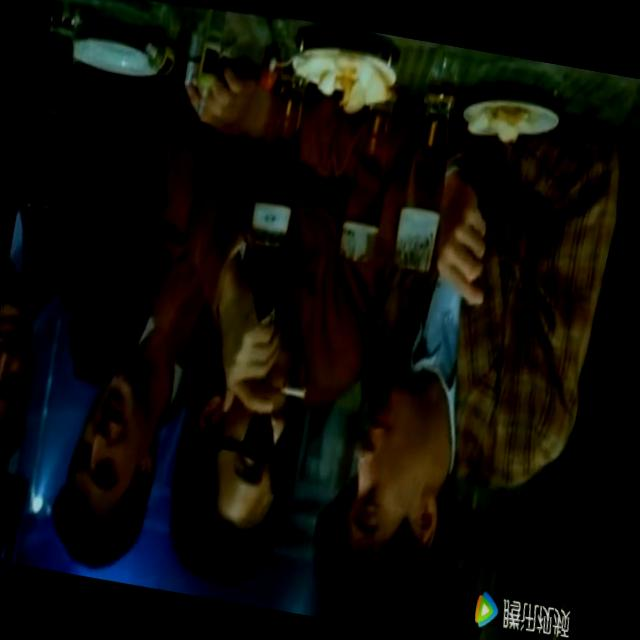smoke: (279, 378, 308, 404)
